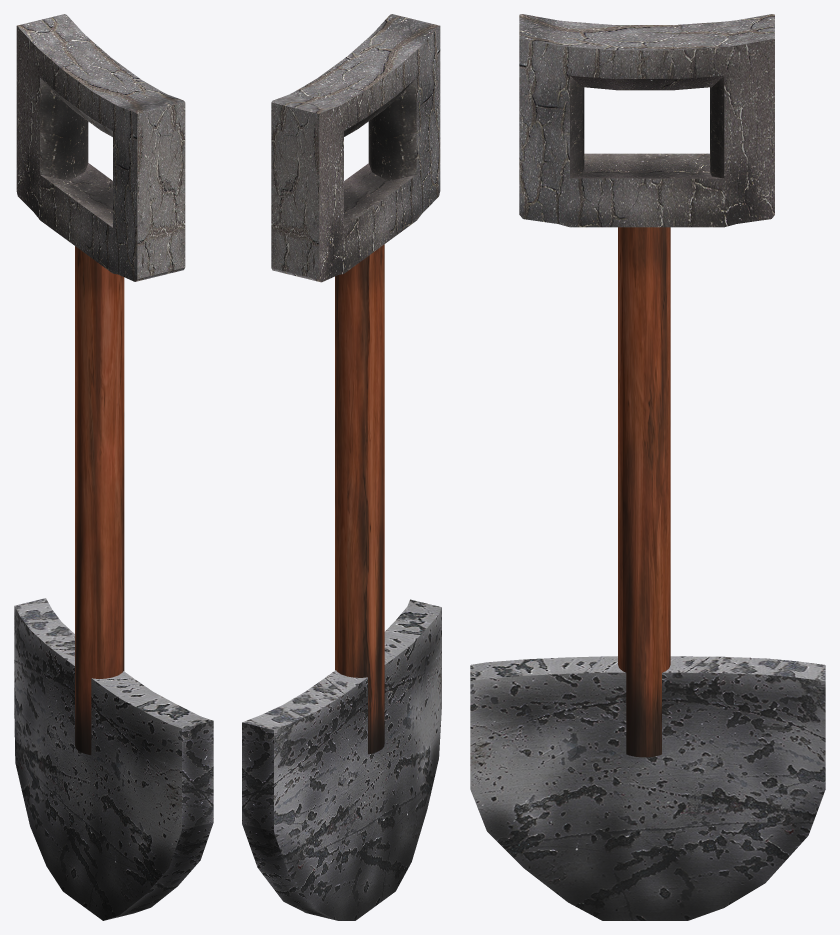
File: shovel.fbx
3 views of the same model, side by side, from view 1: azimuth 30°, elevation 25°; view 2: azimuth 150°, elevation 25°; view 3: azimuth 270°, elevation 25° (orthographic). The views are drawn at different scales.
Parts seen in each view (by area): view 1: polySurface2; view 2: polySurface2; view 3: polySurface2.
Boxes of the visible parts, x1=… form: polySurface2: x1=14, y1=14, x2=213, y2=920; polySurface2: x1=242, y1=14, x2=441, y2=920; polySurface2: x1=470, y1=14, x2=825, y2=920.
Size of the model in its own units: 0.6246 by 9.3 by 3.38.
